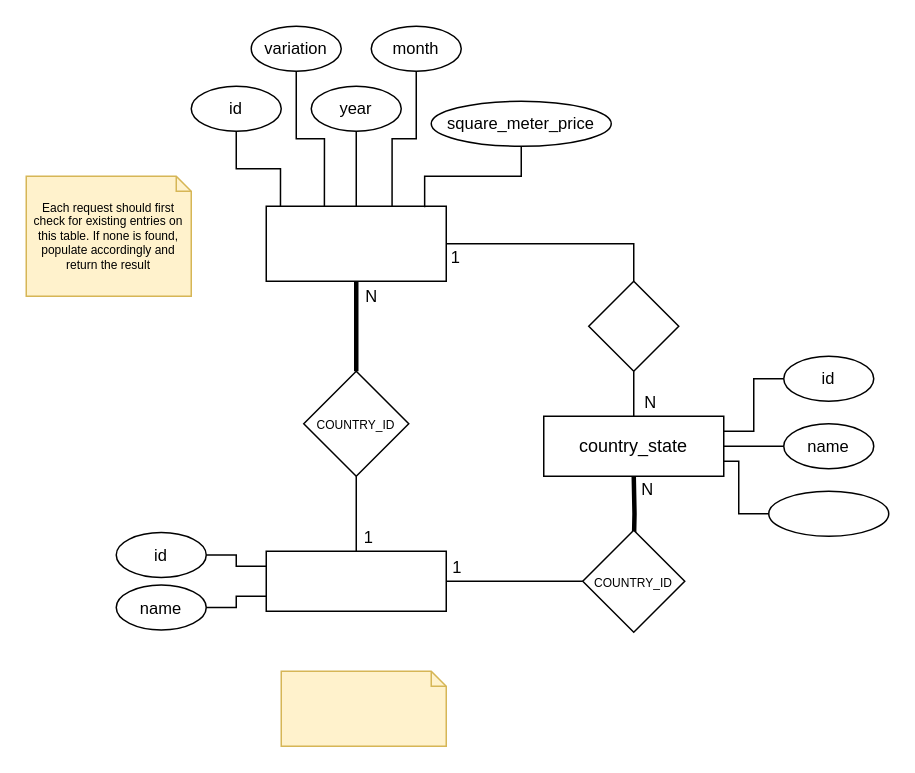
Some shapes in this 915 by 773 pixel diagram are drawn without their labels. The centre of each missing label's shape, as x and y in pixels:
abbreviation: the point at 828,513
country: the point at 355,580
housing_data: the point at 355,243
Populate country and state using fixtures: the point at 363,708
STATE_ID: the point at 633,325
